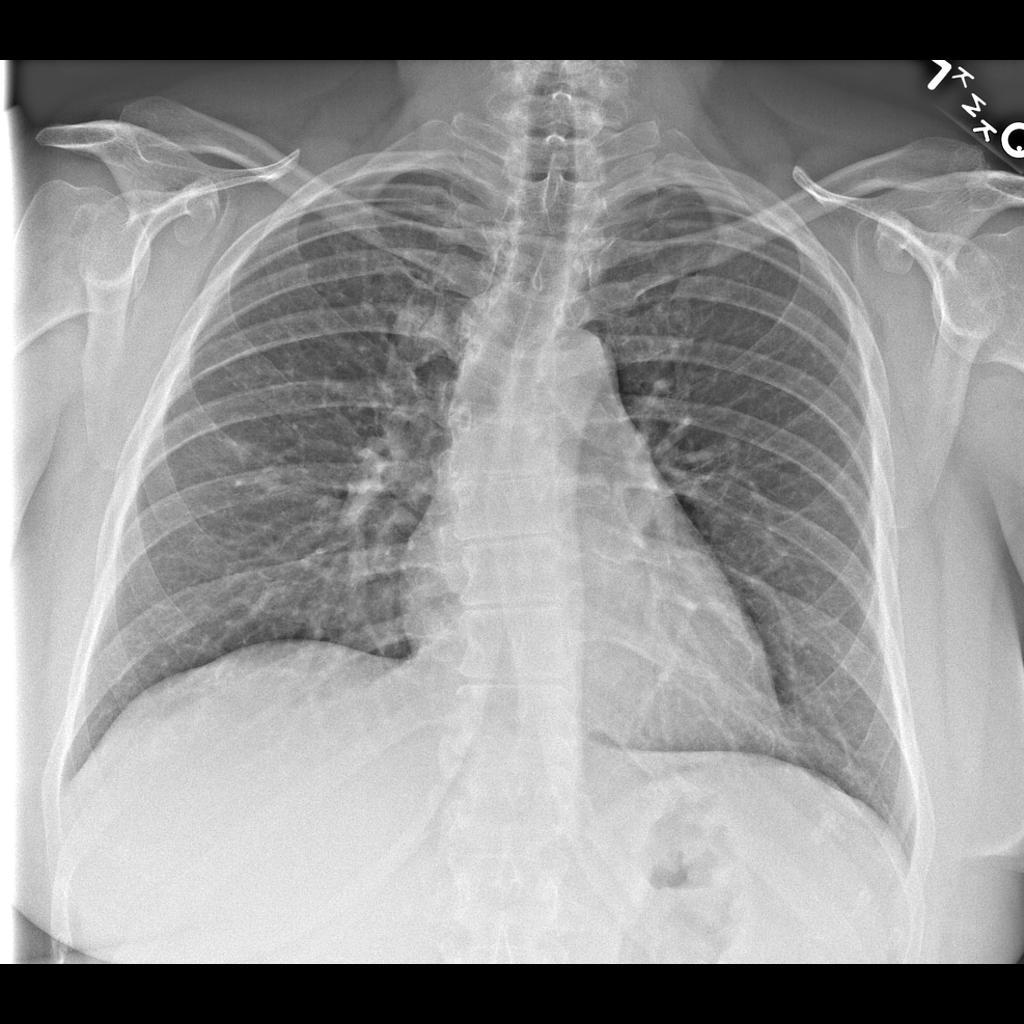Nodule: (391, 291, 462, 369)
